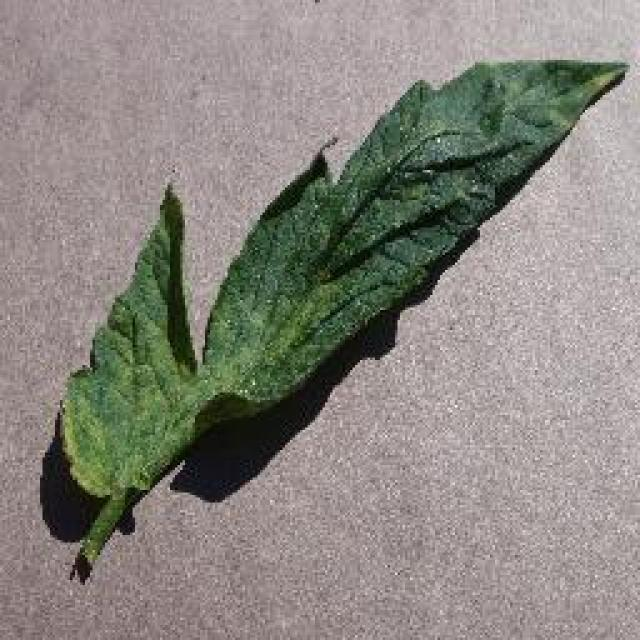Tomato mold leaf: (56, 58, 634, 508)
